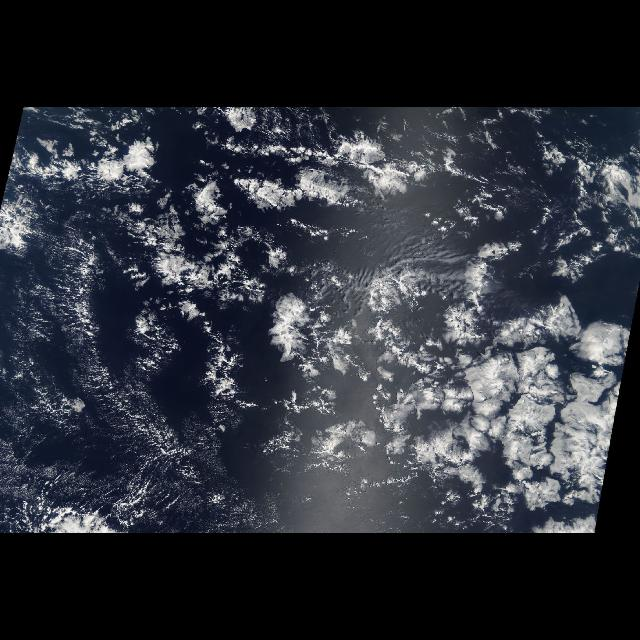Flower: (248, 145, 624, 525)
